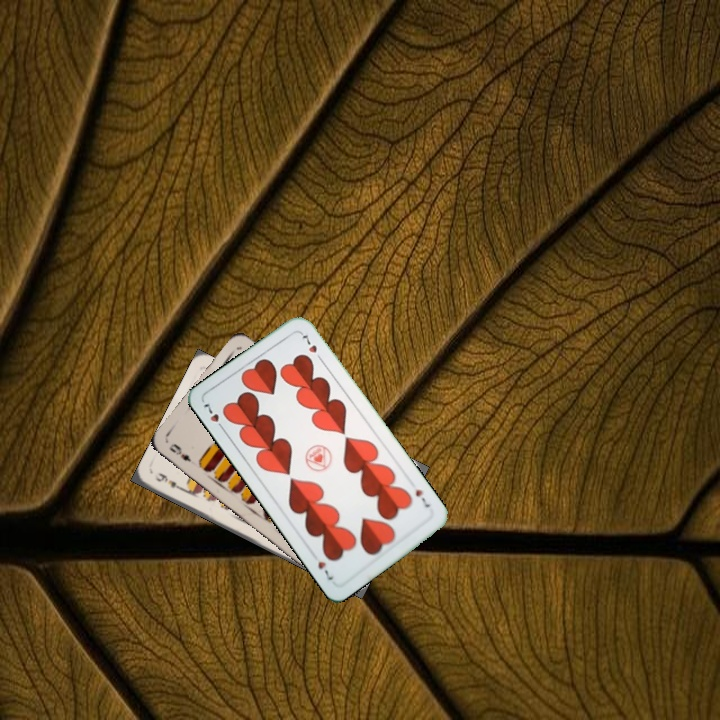E9: (150, 468, 188, 494), (165, 440, 194, 465)
H7: (199, 399, 228, 434), (411, 485, 432, 510)
